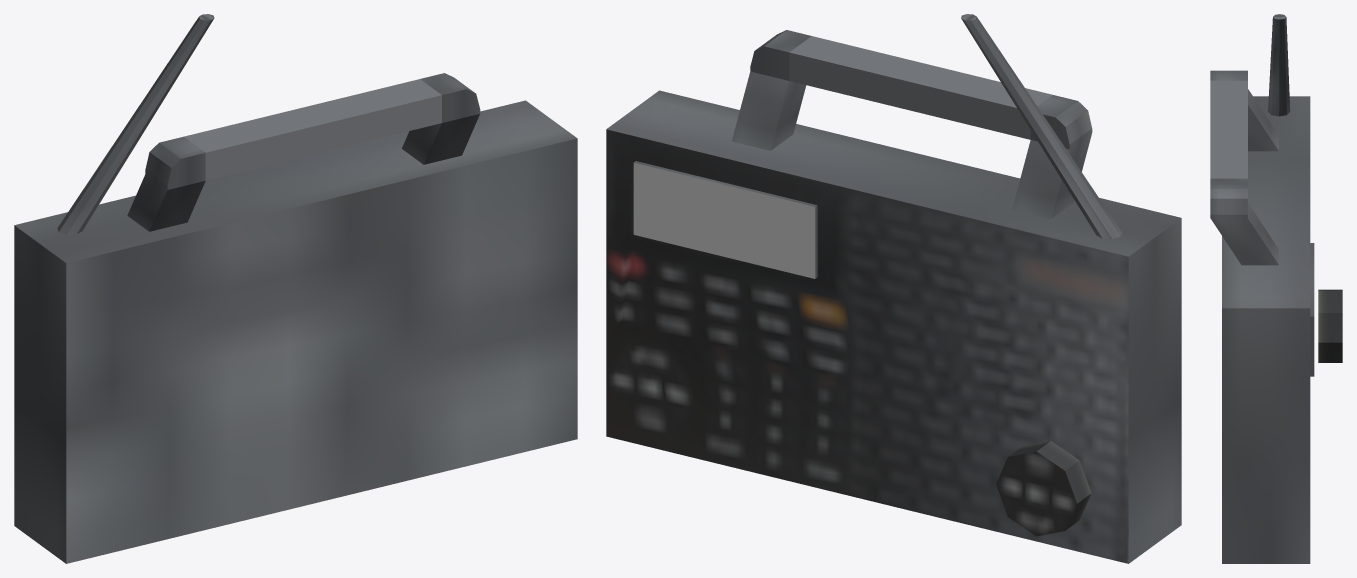
The model's file is Radio.fbx.
The picture shows the model from 3 angles, left to right: view 1: azimuth 30°, elevation 25°; view 2: azimuth 150°, elevation 25°; view 3: azimuth 270°, elevation 25°; orthographic projection. The views are drawn at different scales.
Parts seen in each view (by area): view 1: Radio; view 2: Radio, RadioSwitch; view 3: Radio, RadioSwitch.
Part boxes in pixels (x1,y1,x2,y2): Radio: [14, 14, 577, 563]; Radio: [606, 14, 1181, 563]; RadioSwitch: [996, 441, 1091, 536]; Radio: [1210, 14, 1314, 563]; RadioSwitch: [1318, 289, 1342, 362].
Bounding box in the file's own units: 33.9 × 30.36 × 8.92.
